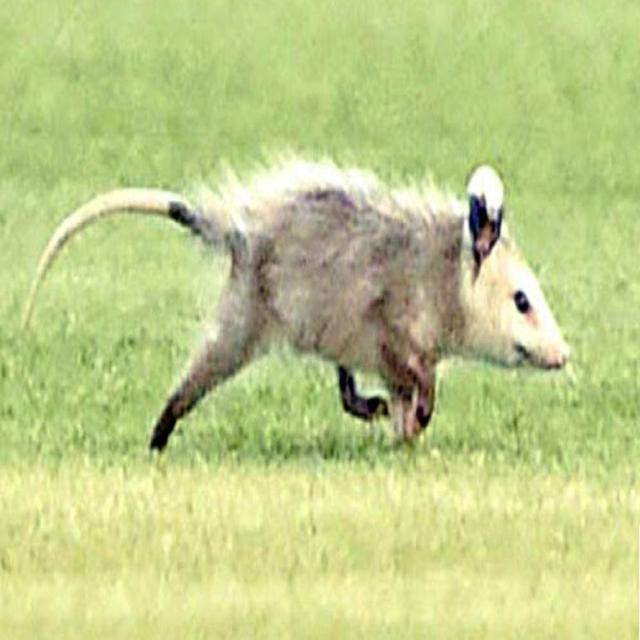possum: (26, 157, 570, 450)
